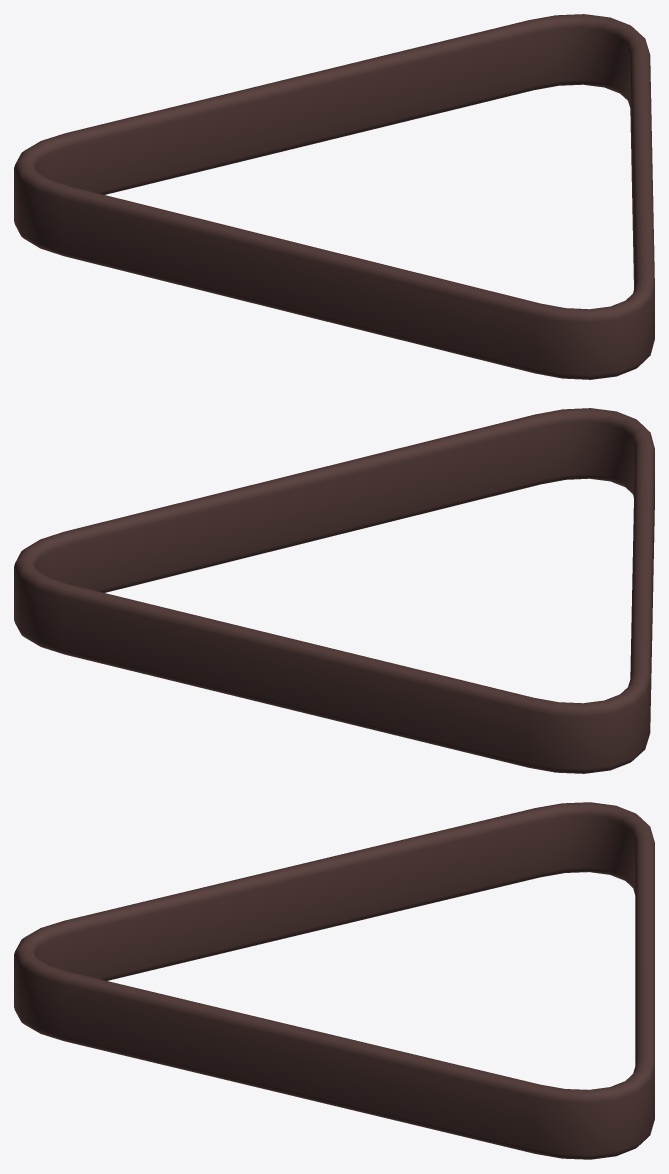
The model's file is Rack.fbx.
3 views of the same model, one above another, from view 1: azimuth 30°, elevation 25°; view 2: azimuth 150°, elevation 25°; view 3: azimuth 270°, elevation 25° (orthographic).
Parts seen in each view (by area): view 1: Rack; view 2: Rack; view 3: Rack.
Part boxes in pixels (box(x1,y1,x2,y2)): Rack: box(14, 14, 654, 379); Rack: box(14, 408, 654, 773); Rack: box(14, 802, 654, 1159).
Bounding box in the file's own units: 68.48 × 7.21 × 62.65.
